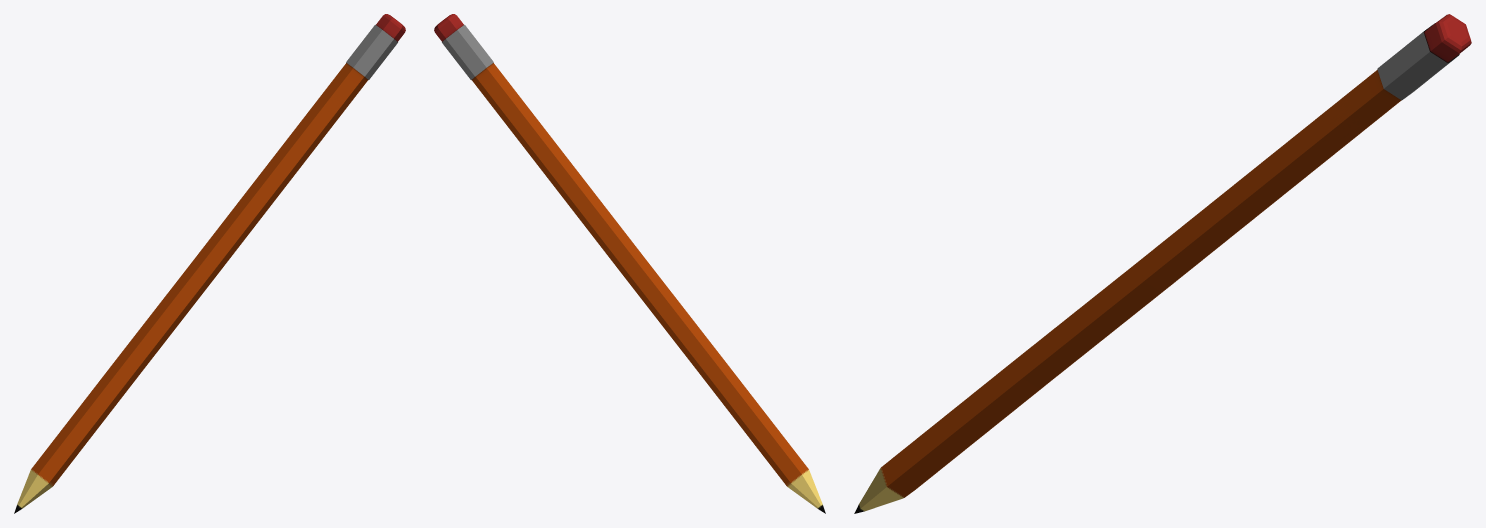
Rendered from pencil_2.glb.
The picture shows the model from 3 angles, left to right: view 1: azimuth 30°, elevation 25°; view 2: azimuth 150°, elevation 25°; view 3: azimuth 330°, elevation 25°; orthographic projection. The views are drawn at different scales.
Parts seen in each view (by area): view 1: fefcac338607453f975595da44f0c7a0; view 2: fefcac338607453f975595da44f0c7a0; view 3: fefcac338607453f975595da44f0c7a0.
Boxes of the visible parts, x1,y1,x2,y2 form: fefcac338607453f975595da44f0c7a0: (14,14,405,513); fefcac338607453f975595da44f0c7a0: (434,14,825,513); fefcac338607453f975595da44f0c7a0: (854,14,1471,513).
Bounding box in the file's own units: 1 × 0.999 × 0.0658.
5 materials, 5 textured.
